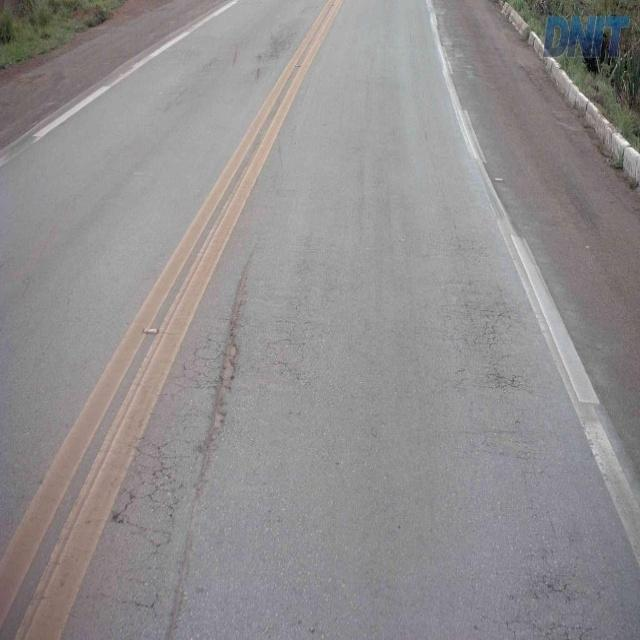pothole: (208, 268, 249, 437)
